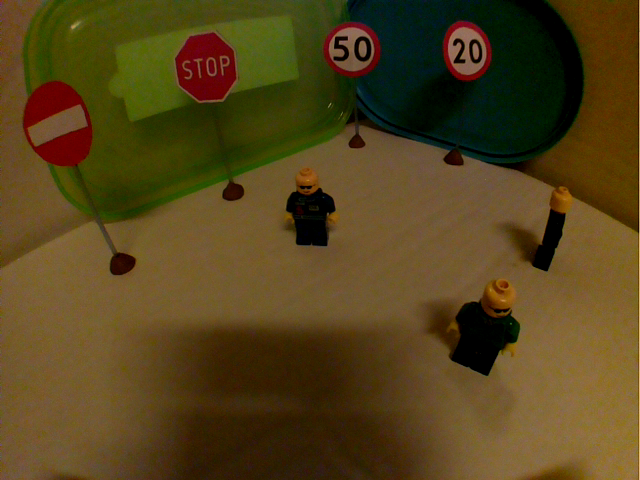Ograniczenie 20: (438, 19, 494, 84)
Ograniczenie 50: (319, 18, 384, 81)
Postac LEGO: (437, 275, 527, 381), (278, 163, 343, 251), (528, 182, 577, 276)
Stop: (169, 27, 242, 112)
Zakaz: (19, 74, 97, 173)
